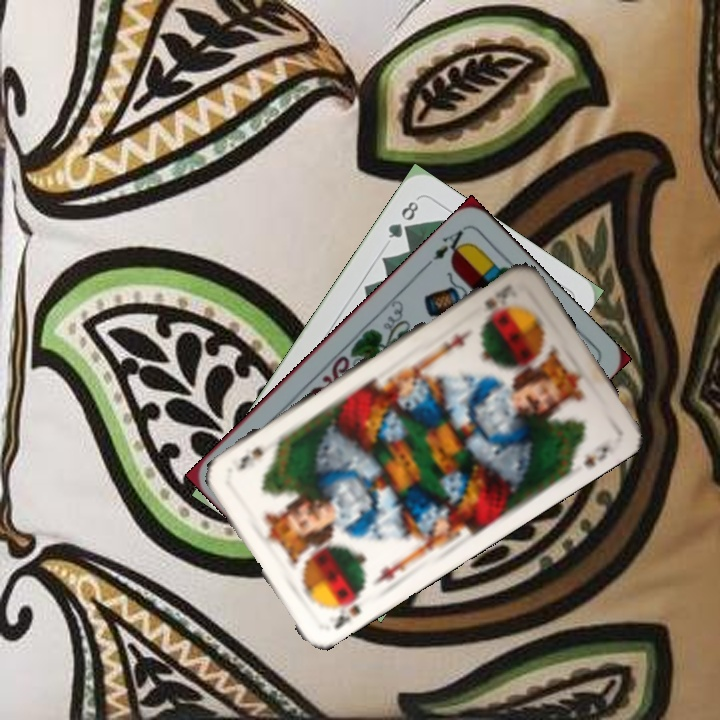EA: (429, 224, 471, 263)
G8: (384, 196, 422, 241)
SK: (330, 585, 368, 632), (480, 286, 513, 314)
